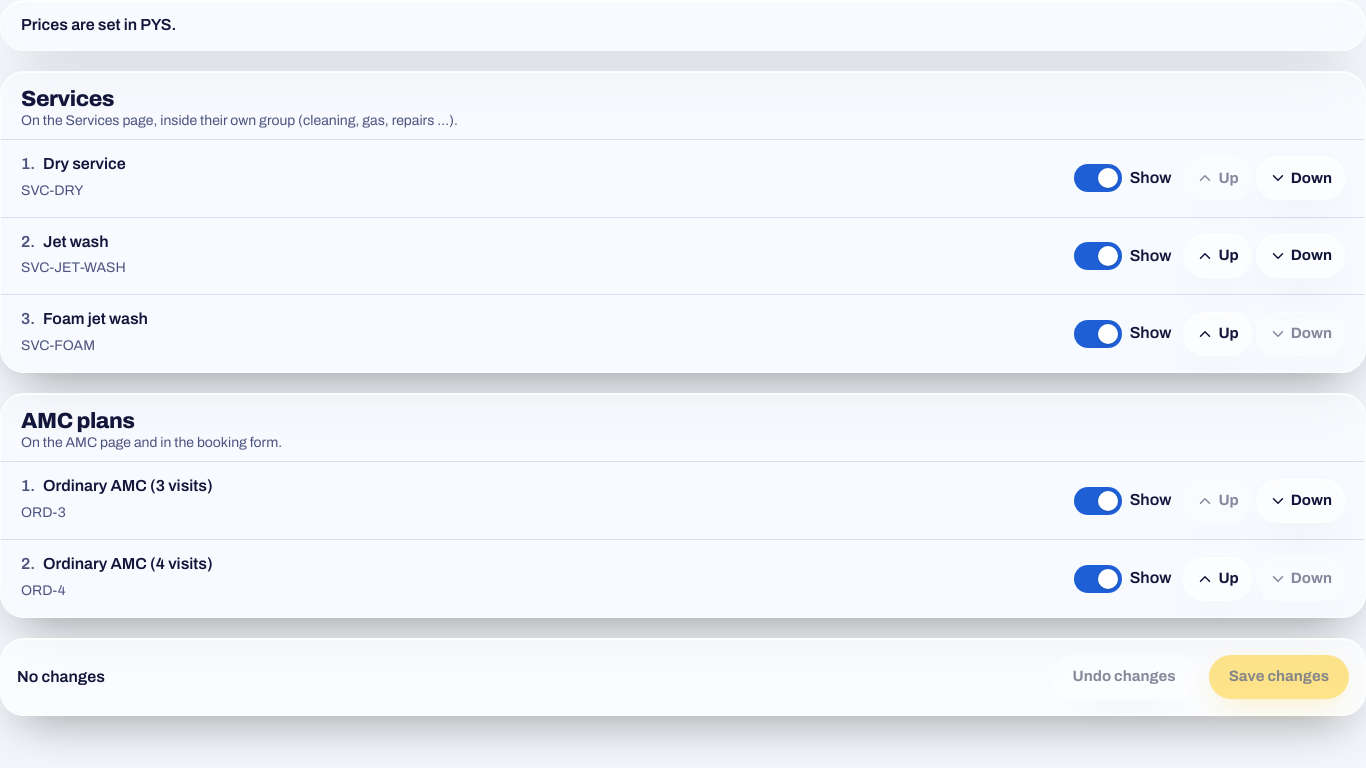
Scenario: DisplayEditor › "Save changes" is off until something changes, and back off after undoing
The image size is (1366, 768).
expect the button "Save changes" is disabled: met, box 1209,655 -> 1349,699
Click the switch named "Show Jet wash on the website" at (1123, 256), box 1066,234 -> 1179,278
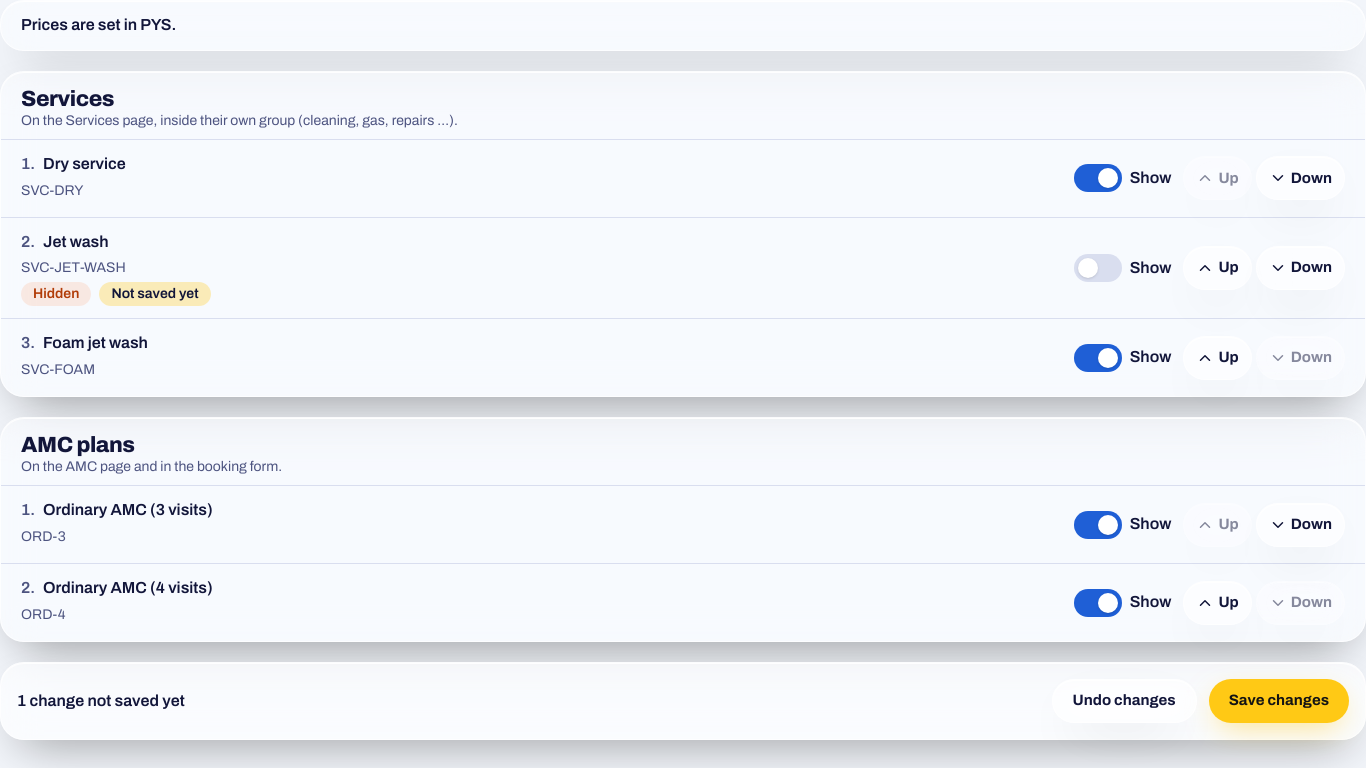
expect the button "Save changes" is enabled: met, box 1209,679 -> 1349,723
Click the button "Undo changes" at (1124, 701), box 1052,679 -> 1197,723
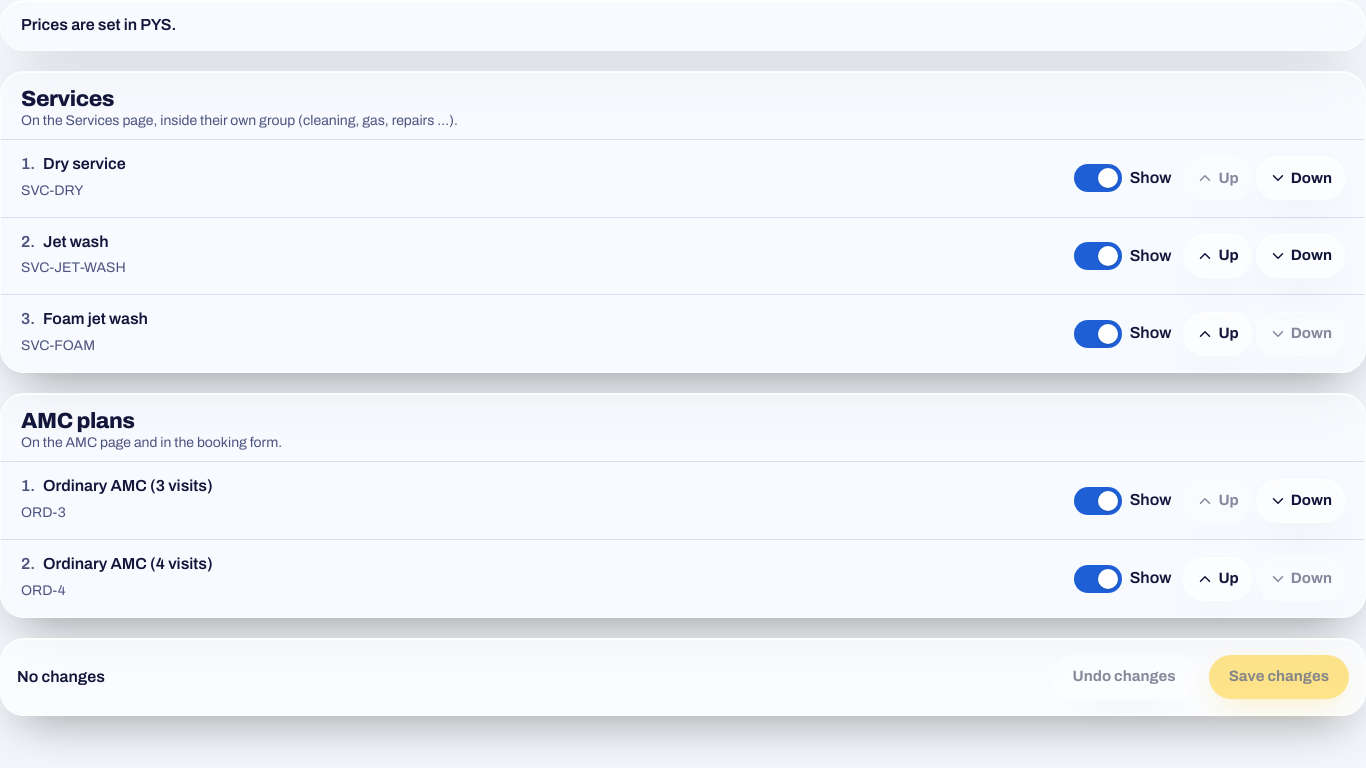
expect the button "Save changes" is disabled: met, box 1209,655 -> 1349,699
